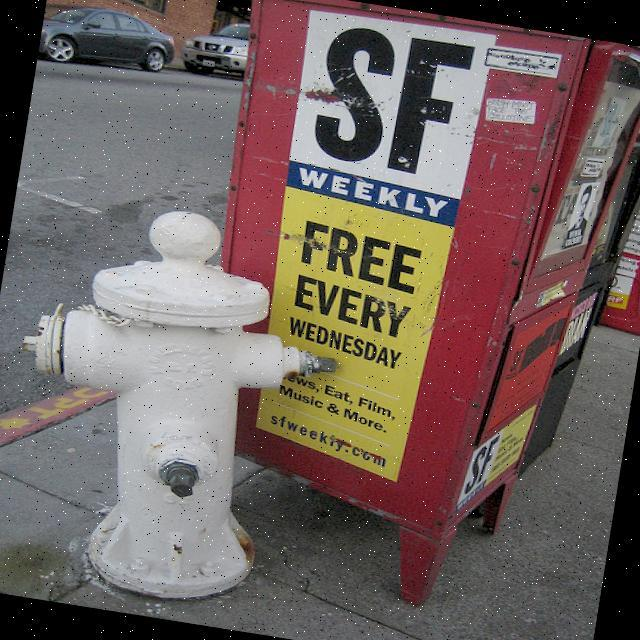fire_hydrant: (0, 188, 357, 619)
